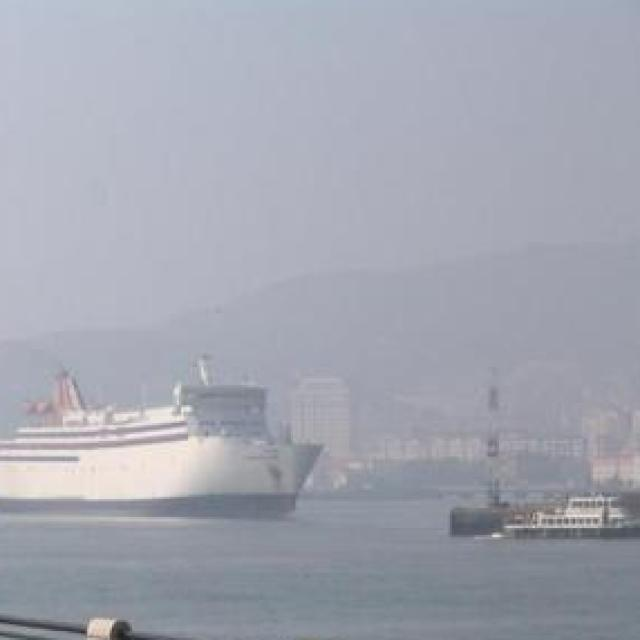passenger ship: (0, 378, 322, 522), (503, 494, 640, 540)
